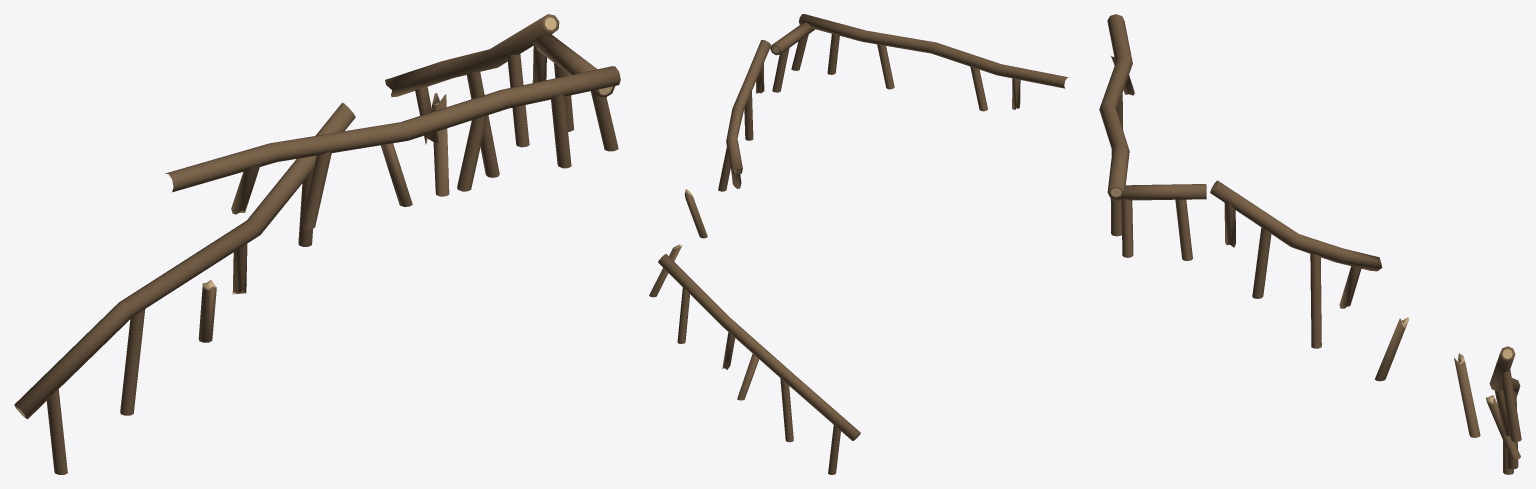
The model's file is rpgpp_av_stairs_interior_01b_4m_handrail_01.gltf.
The picture shows the model from 3 angles, left to right: view 1: azimuth 30°, elevation 25°; view 2: azimuth 150°, elevation 25°; view 3: azimuth 270°, elevation 25°; orthographic projection. The views are drawn at different scales.
Parts seen in each view (by area): view 1: rpgpp_av_stairs_interior_01b_4m_handrail_01; view 2: rpgpp_av_stairs_interior_01b_4m_handrail_01; view 3: rpgpp_av_stairs_interior_01b_4m_handrail_01.
Boxes of the visible parts, <box> form: rpgpp_av_stairs_interior_01b_4m_handrail_01: <box>14,14,620,474</box>; rpgpp_av_stairs_interior_01b_4m_handrail_01: <box>649,14,1069,474</box>; rpgpp_av_stairs_interior_01b_4m_handrail_01: <box>1099,14,1521,474</box>.
Bounding box in the file's own units: 0.0443 × 0.0465 × 0.0439.
1 material, 1 textured.
